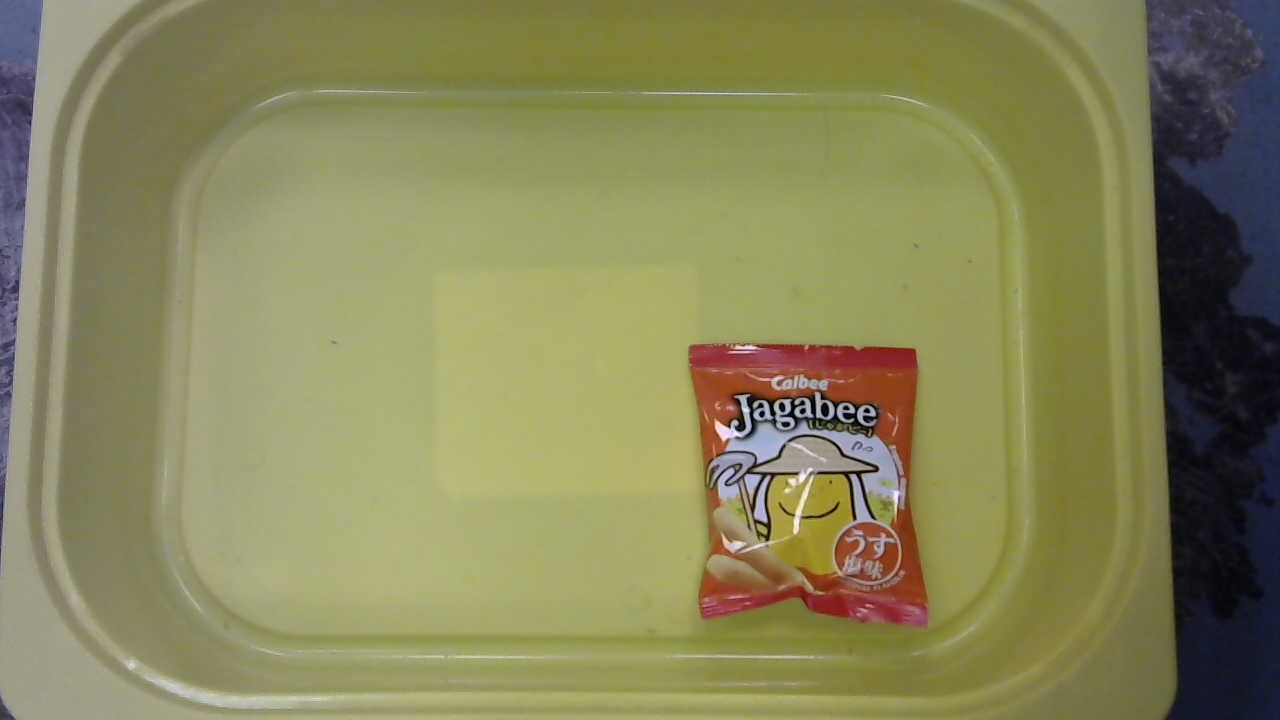JagabeeFarmer: (672, 333, 935, 640)
